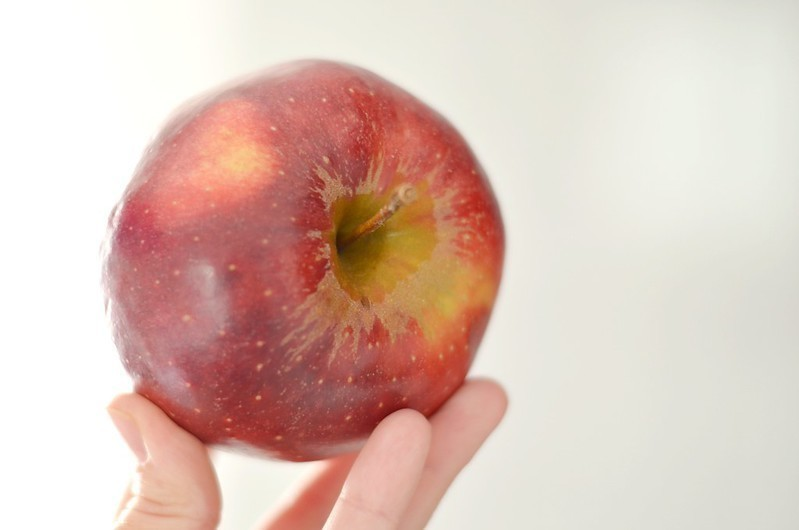apple: (95, 46, 517, 464)
